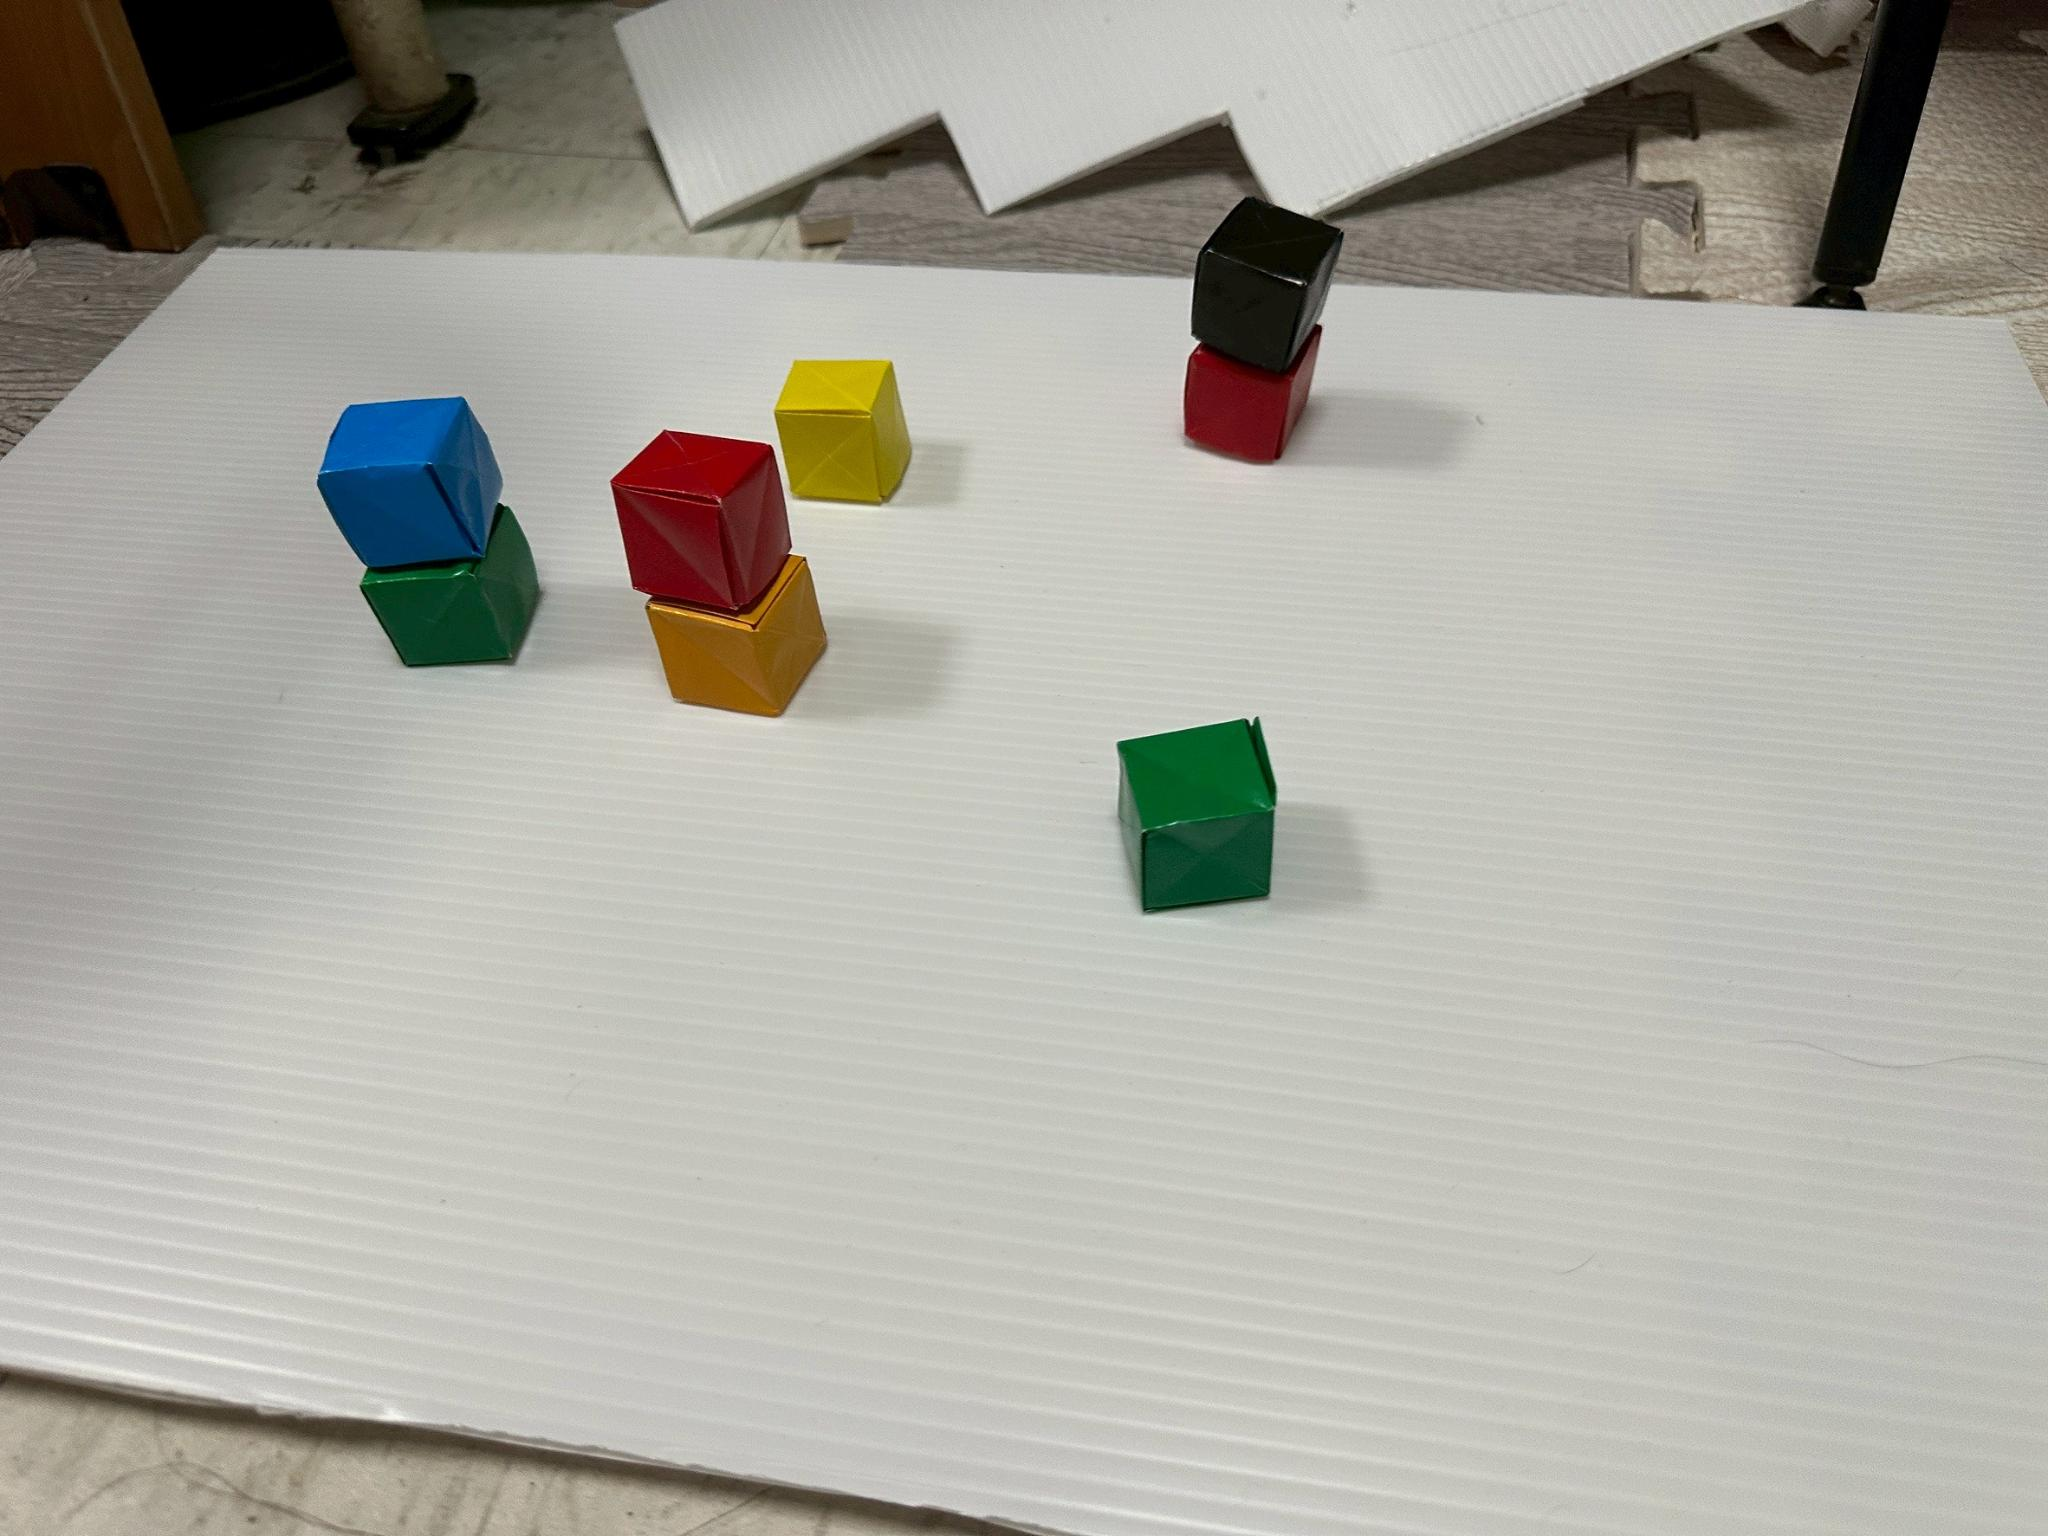cube: (613, 431, 790, 611), (318, 397, 502, 568), (1118, 720, 1276, 912), (647, 557, 826, 716), (361, 507, 539, 666), (1192, 198, 1342, 371), (776, 360, 911, 502), (1184, 324, 1321, 461)
